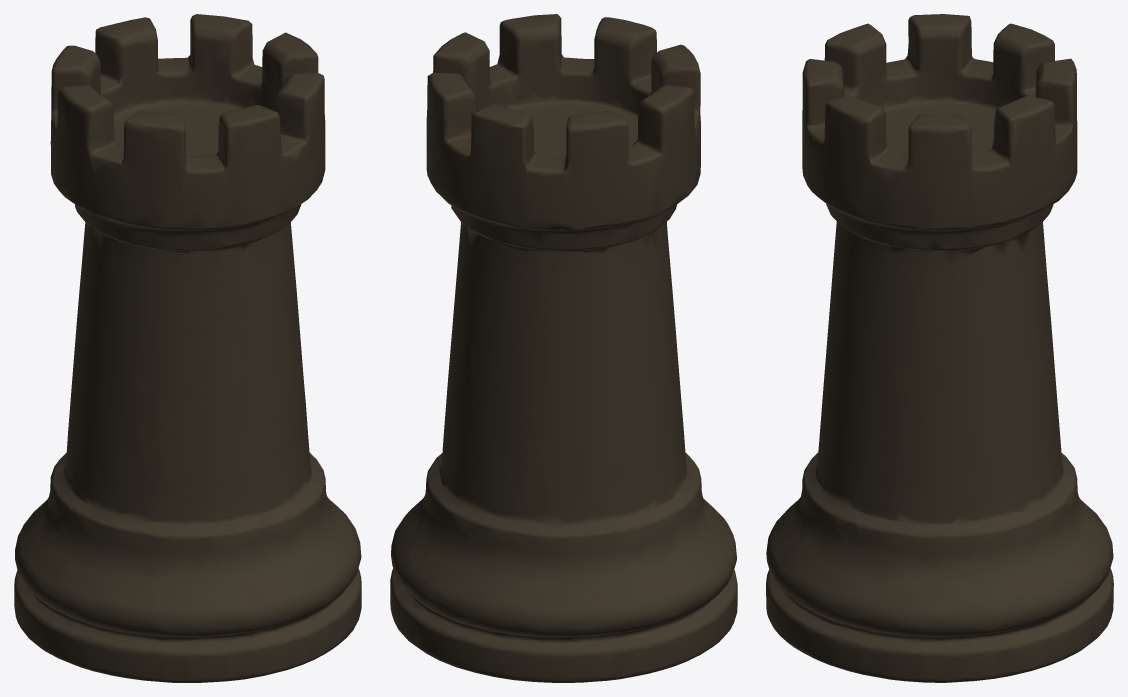
Rendered from rook.glb.
3 renders of one model, left to right at view 1: azimuth 30°, elevation 25°; view 2: azimuth 150°, elevation 25°; view 3: azimuth 270°, elevation 25°, orthographic.
Parts seen in each view (by area): view 1: tripo_node_b1f79dd6-6284-4353-b0e8-ad449c9eaf83; view 2: tripo_node_b1f79dd6-6284-4353-b0e8-ad449c9eaf83; view 3: tripo_node_b1f79dd6-6284-4353-b0e8-ad449c9eaf83.
Boxes of the visible parts, x1,y1,x2,y2 form: tripo_node_b1f79dd6-6284-4353-b0e8-ad449c9eaf83: (14,14,361,682); tripo_node_b1f79dd6-6284-4353-b0e8-ad449c9eaf83: (390,14,737,682); tripo_node_b1f79dd6-6284-4353-b0e8-ad449c9eaf83: (766,14,1113,682).
Size of the model in its own units: 0.5836 by 1 by 0.582.
1 material, 1 textured.
